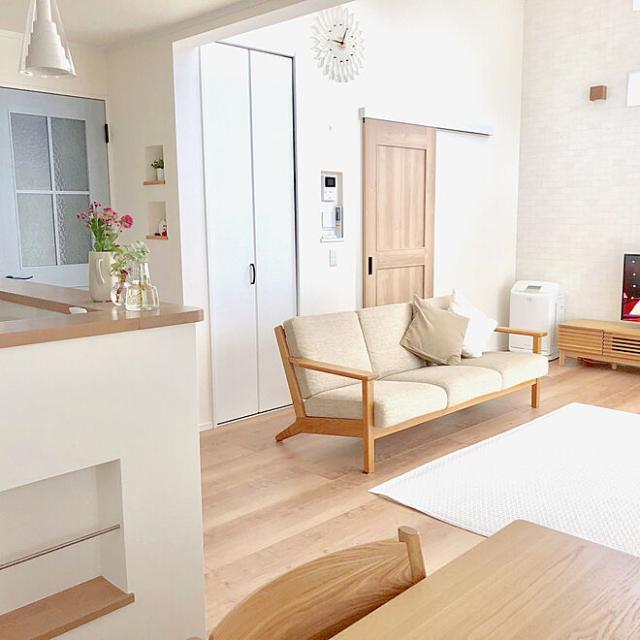natural sofa: (268, 290, 551, 473)
